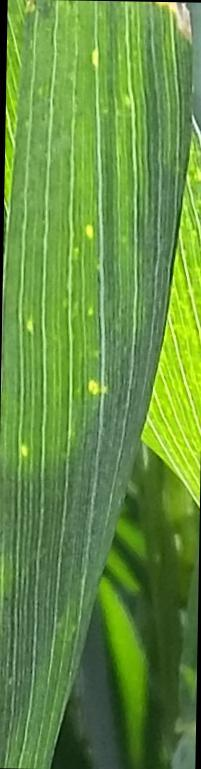Wheat: (10, 3, 187, 270), (1, 278, 163, 513)
